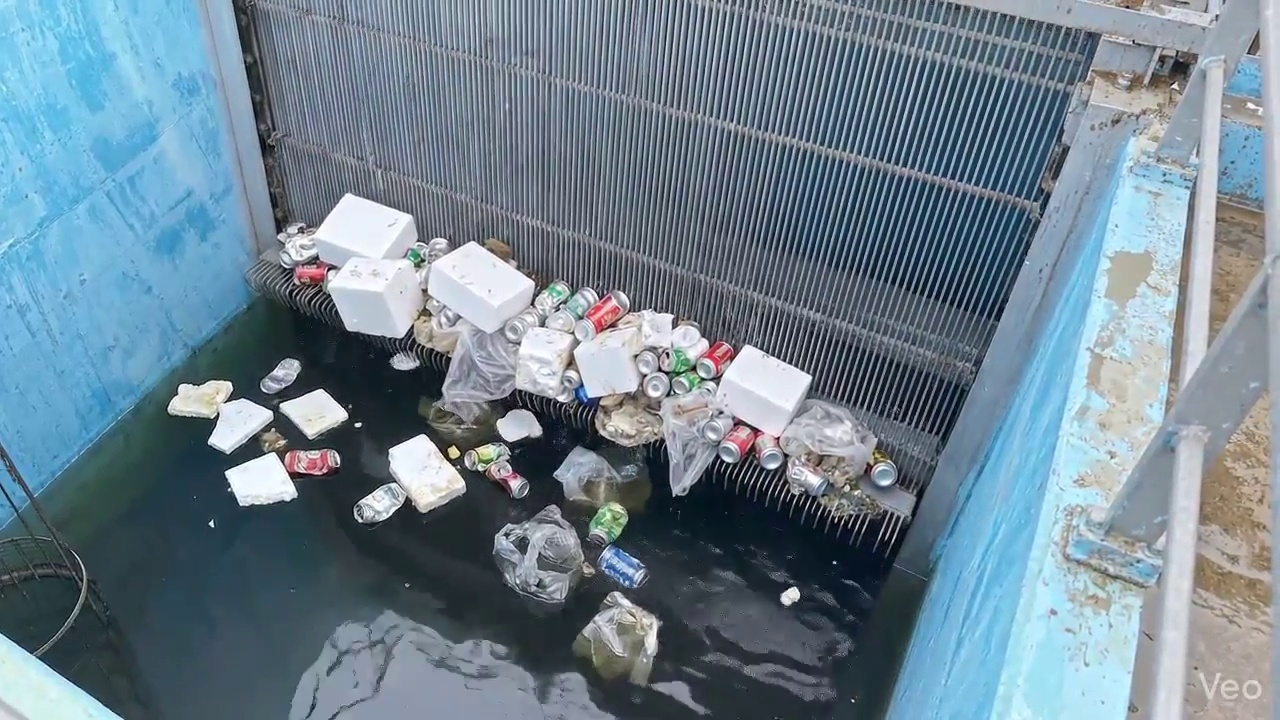debris: (428, 242, 535, 333), (494, 506, 584, 604), (717, 345, 811, 435), (573, 592, 659, 684), (328, 257, 423, 338), (314, 193, 417, 266), (441, 325, 516, 420), (780, 400, 876, 473), (661, 389, 723, 495), (388, 435, 465, 512), (573, 328, 641, 397), (582, 447, 651, 512), (515, 327, 576, 397), (418, 398, 501, 446), (224, 453, 296, 505), (208, 398, 273, 453), (553, 446, 620, 499), (280, 390, 348, 439), (595, 397, 661, 446), (575, 290, 630, 341), (544, 287, 599, 333), (167, 380, 232, 418), (597, 545, 648, 588), (353, 482, 406, 523), (659, 337, 709, 374), (588, 502, 628, 545), (786, 456, 829, 495), (484, 460, 528, 498), (533, 280, 572, 319), (259, 358, 301, 394), (503, 307, 545, 343), (695, 341, 734, 379), (717, 425, 756, 463), (283, 449, 340, 475), (636, 310, 673, 349), (496, 410, 542, 441), (278, 233, 318, 268), (429, 316, 463, 355), (463, 443, 509, 471), (866, 448, 897, 487), (753, 433, 785, 469), (292, 262, 335, 288), (701, 413, 734, 443), (642, 372, 670, 399), (482, 238, 513, 262), (412, 312, 433, 347), (259, 428, 287, 452), (635, 349, 659, 375), (389, 351, 420, 371), (599, 394, 628, 409), (780, 586, 800, 606), (446, 445, 461, 461), (582, 562, 595, 577), (208, 519, 215, 528), (353, 422, 362, 428)
